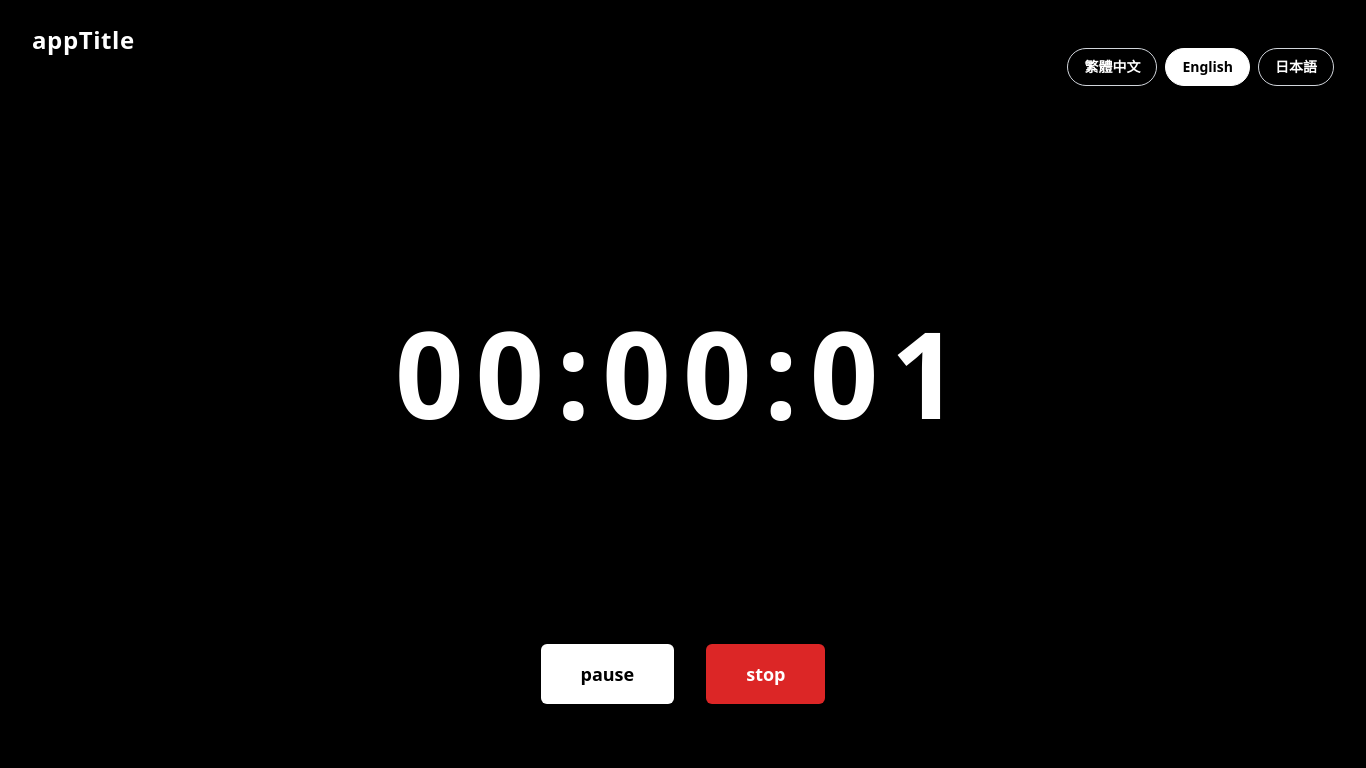
Test: Timer Page › pauses and resumes the timer
Expected: the text "00:00:01" is shown, [395,283,971,463]
Click the button "pause" at x=607, y=674, box [540,644,674,704]
Wait 5000 ms
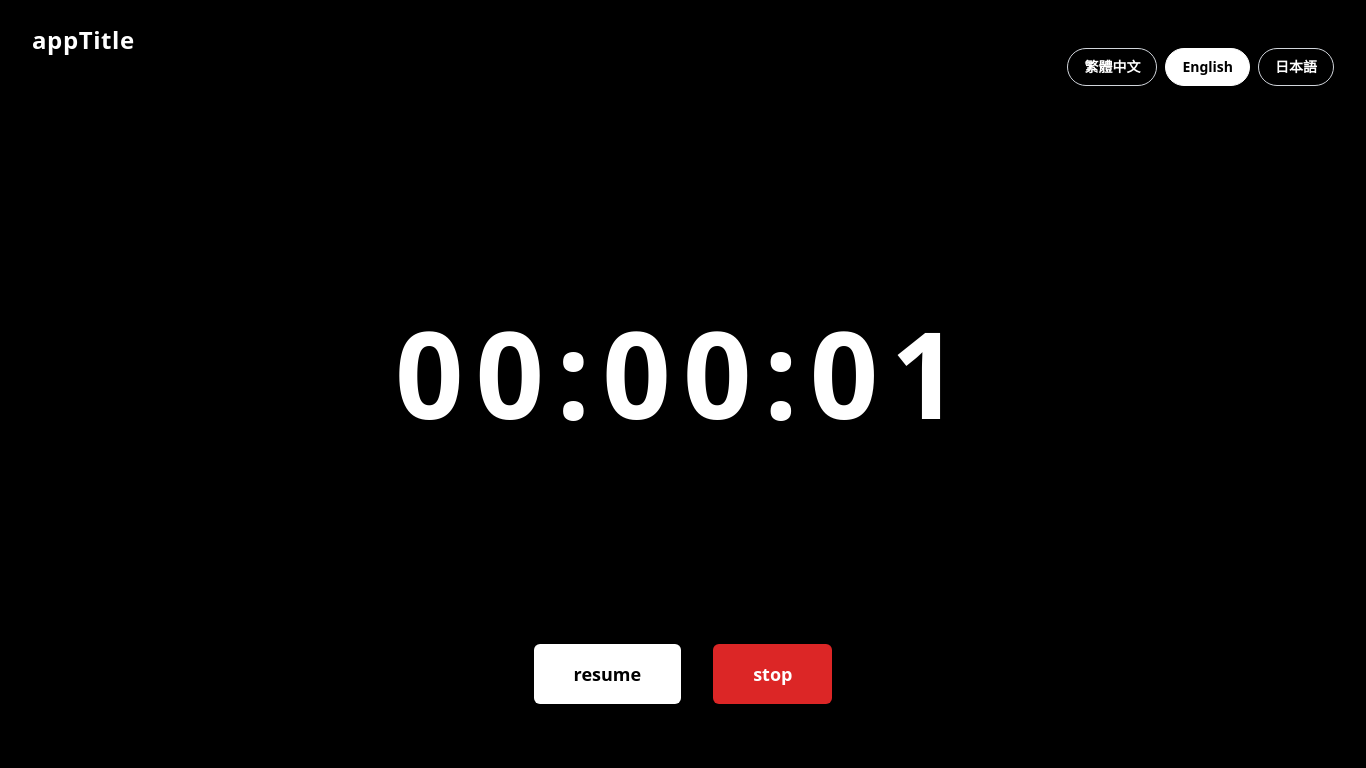
Expected: the text "00:00:01" is shown, [395,283,971,463]
Click the button "resume" at x=607, y=674, box [534,644,681,704]
Wait 2000 ms
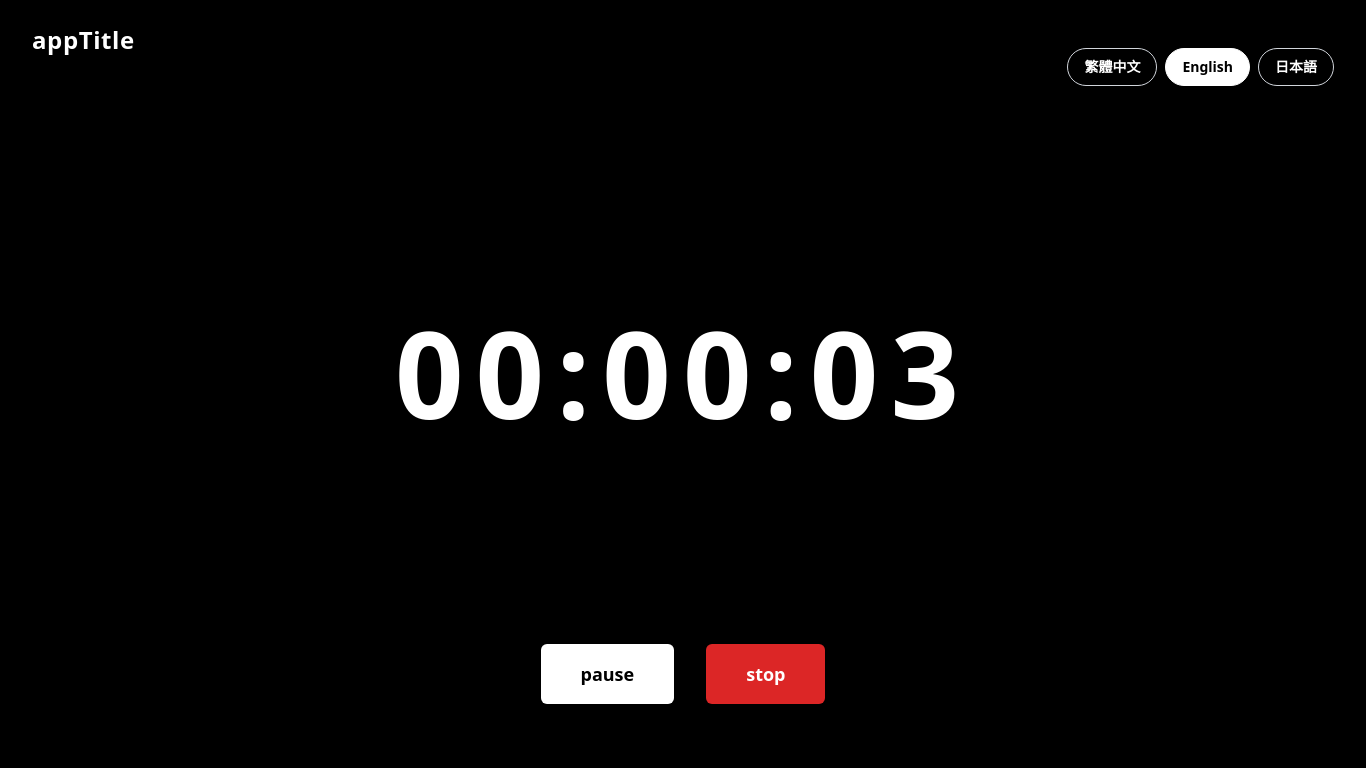
Expected: the text "00:00:03" is shown, [395,283,971,463]
